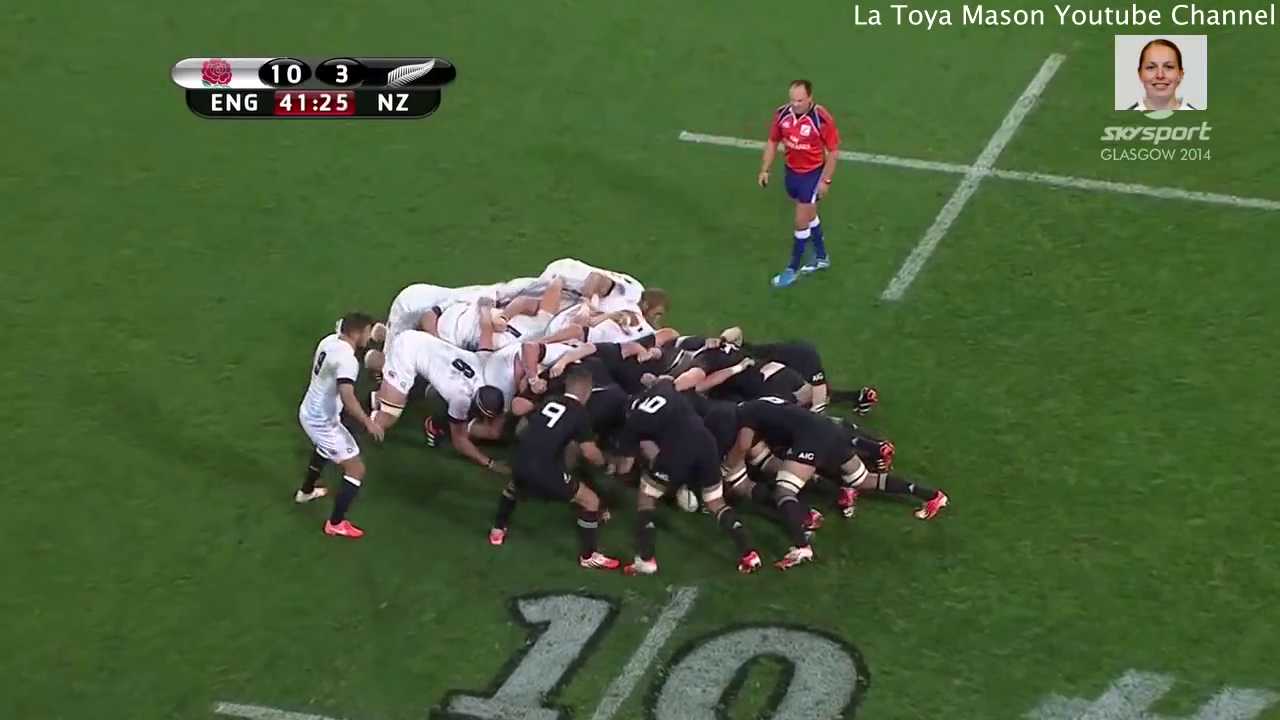10_metre: (660, 46, 1280, 315), (186, 573, 909, 720)
player: (721, 382, 957, 578), (609, 371, 771, 592), (477, 358, 622, 574), (291, 302, 385, 556), (746, 76, 850, 291), (347, 324, 500, 461), (517, 244, 679, 312)
scrum: (240, 248, 998, 588)
